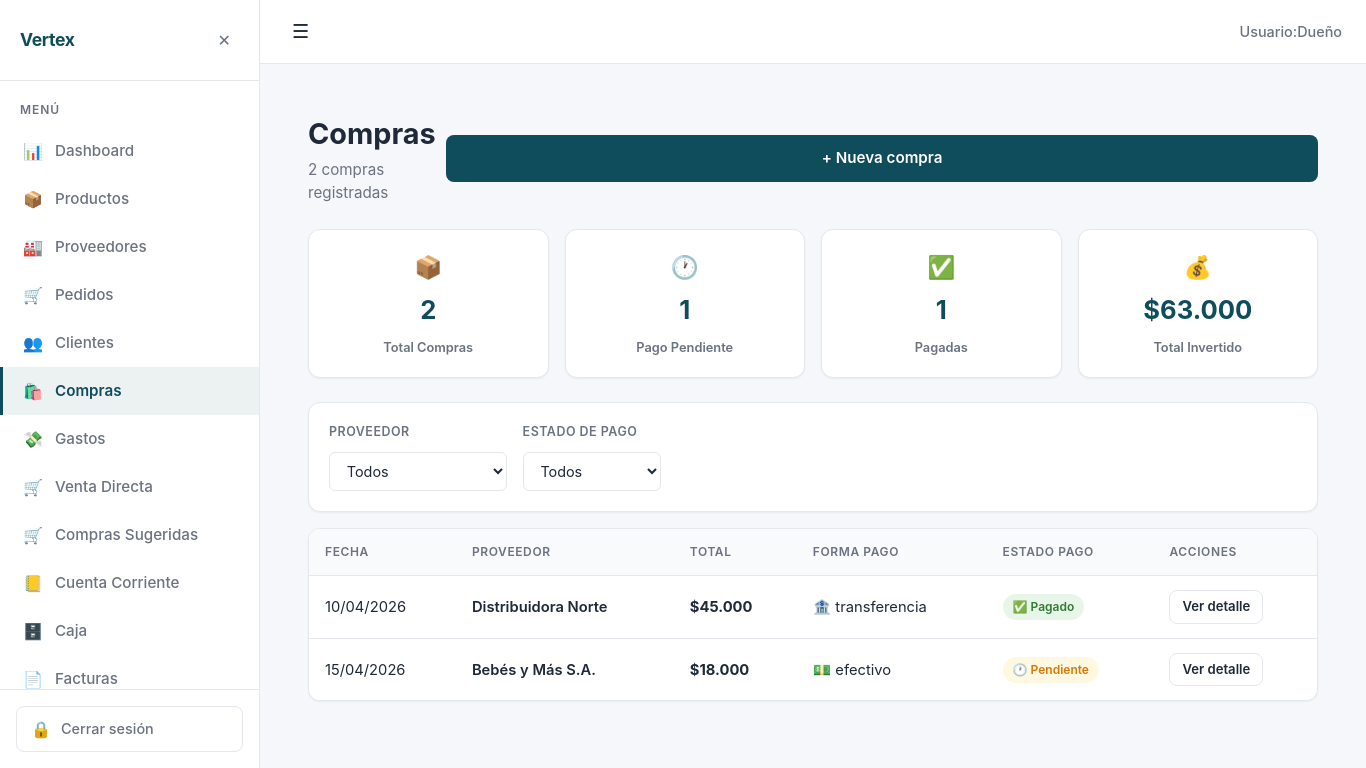
Scenario: Compras › debería mostrar el detalle de la compra en el modal
Click the button with class "btn-ver" in the row of "10/04/2026" at (1216, 607), box x1=1169 y1=590 x2=1263 y2=624
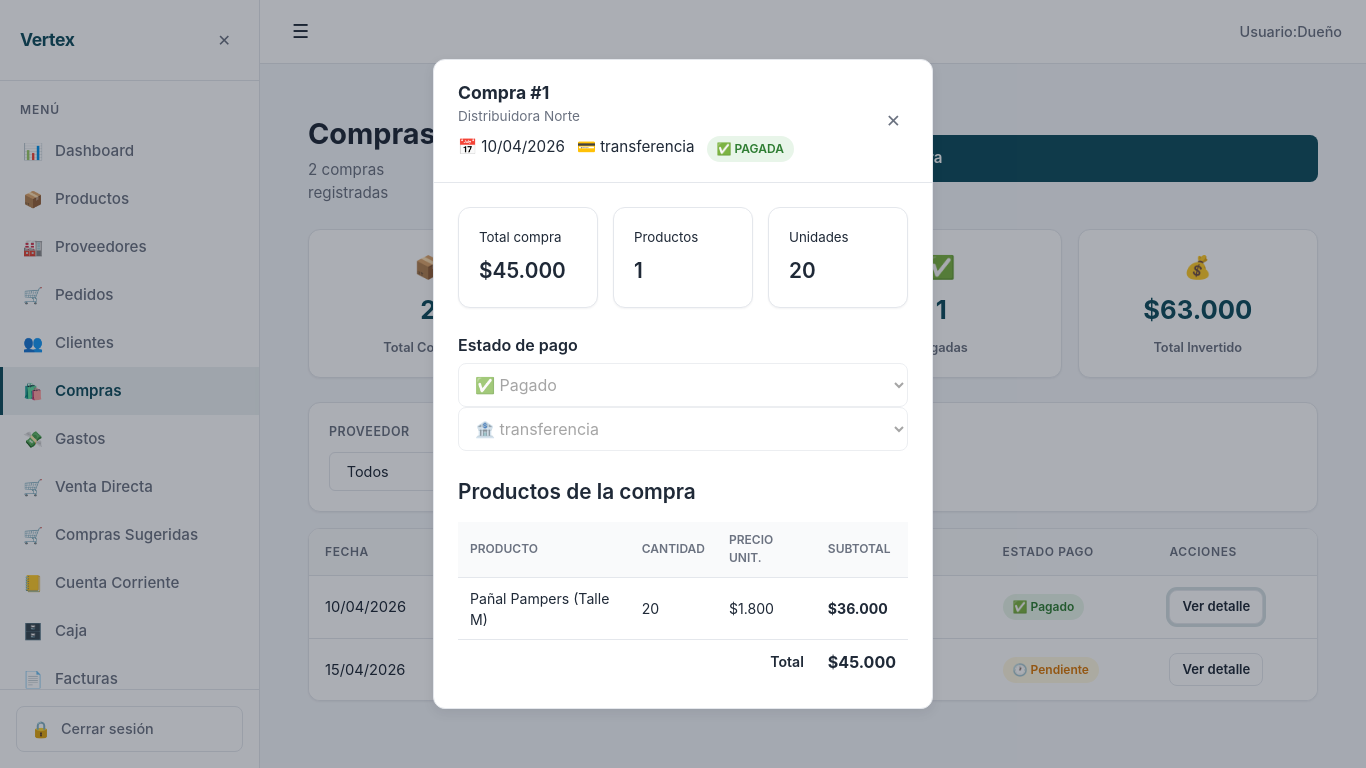
Check: the heading "Compra #1" is shown, box x1=458 y1=82 x2=549 y2=102
Check: the text "Pañal Pampers" is shown, box x1=470 y1=590 x2=609 y2=628
